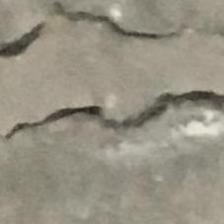Crack: (0, 4, 224, 144)
